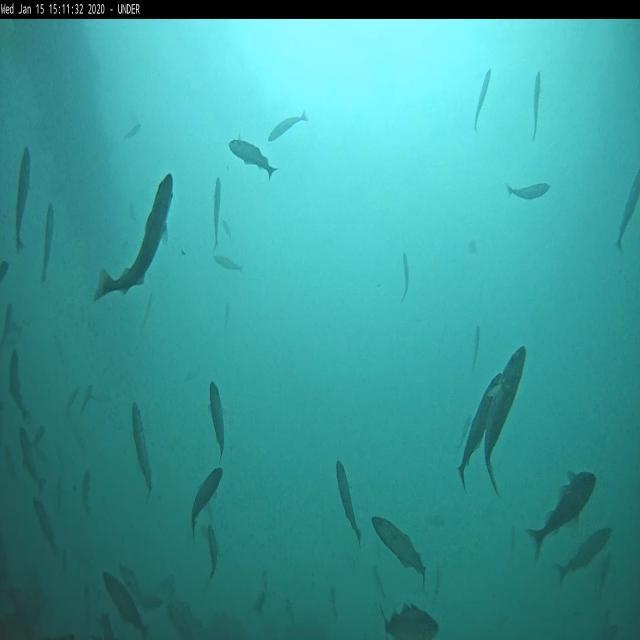fish: (95, 169, 173, 306), (484, 345, 526, 495), (527, 472, 598, 560), (456, 370, 504, 492), (372, 514, 427, 591), (556, 523, 612, 583), (102, 572, 150, 640), (334, 456, 362, 546), (229, 134, 278, 182), (131, 402, 154, 498), (380, 601, 438, 639), (192, 466, 223, 537), (19, 428, 47, 498), (616, 168, 639, 250), (15, 147, 32, 256), (8, 348, 32, 424), (206, 378, 226, 464), (32, 496, 58, 558), (270, 111, 308, 146), (474, 67, 492, 134), (41, 203, 54, 286), (506, 178, 552, 201), (118, 562, 144, 600), (207, 528, 222, 580), (212, 252, 245, 274), (532, 70, 542, 142), (455, 413, 472, 455), (1, 303, 16, 347), (213, 177, 222, 250), (400, 251, 410, 302), (81, 472, 92, 514), (471, 325, 481, 367)
